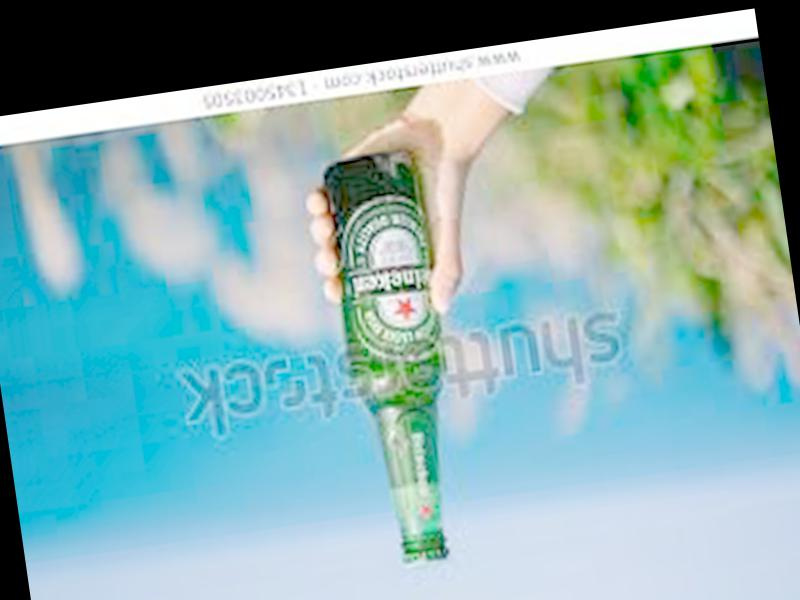Beer: (321, 152, 479, 570)
